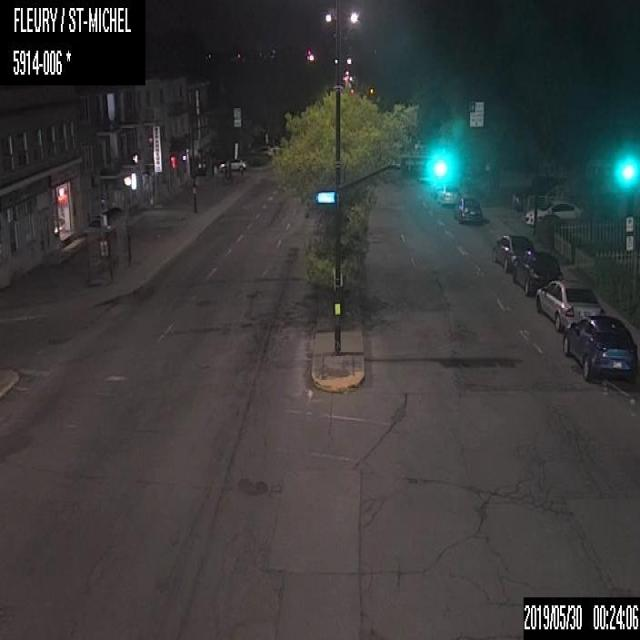vehicle: (562, 312, 639, 384), (533, 272, 601, 329), (512, 248, 564, 298), (521, 200, 584, 227), (491, 234, 535, 268), (453, 196, 481, 223), (432, 180, 461, 206), (218, 155, 248, 172)
